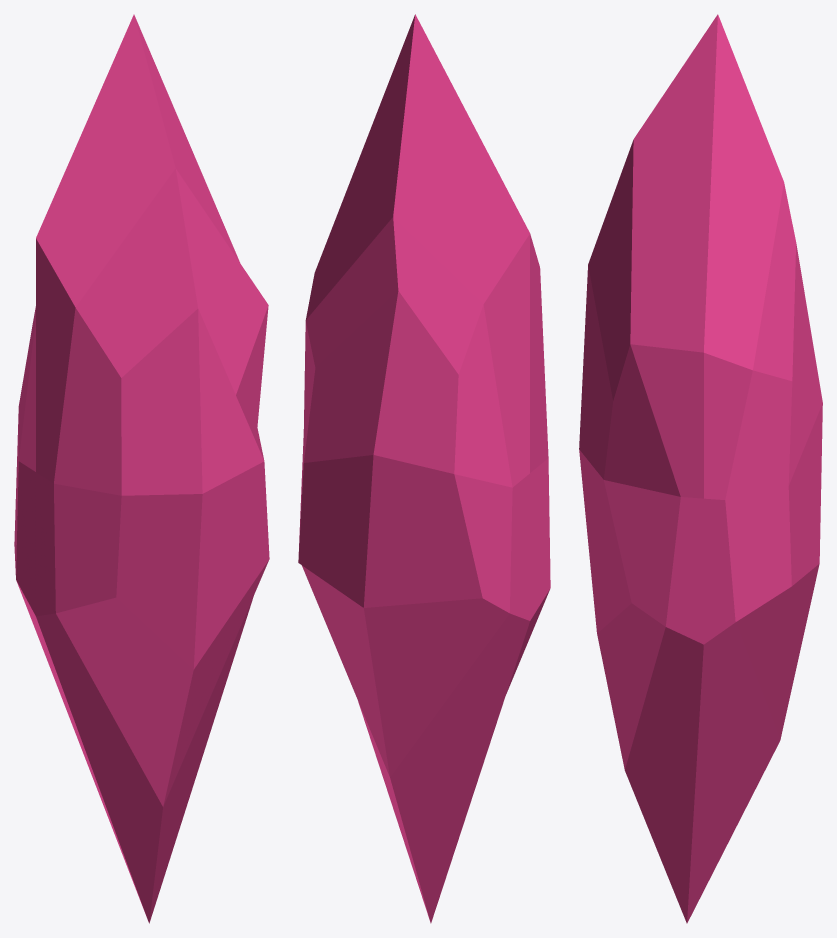
The model's file is crystal.obj.
3 views of the same model, side by side, from view 1: azimuth 30°, elevation 25°; view 2: azimuth 150°, elevation 25°; view 3: azimuth 270°, elevation 25° (orthographic). The views are drawn at different scales.
Visible parts, largest first — view 1: Cube; view 2: Cube; view 3: Cube.
Part boxes in pixels (x1,y1,x2,y2): Cube: (14, 14, 269, 923); Cube: (298, 14, 550, 923); Cube: (579, 14, 822, 923).
Size of the model in its own units: 1.63 by 6.67 by 1.62.
Materials: 1 (1 with a texture image).
